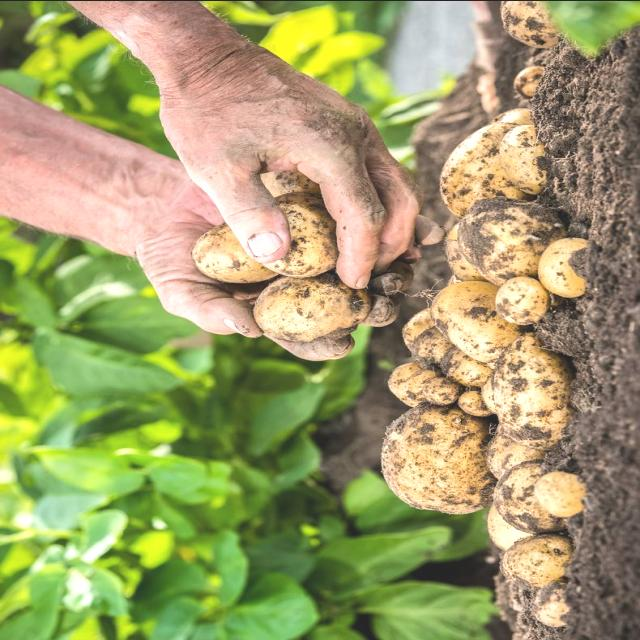potato: (380, 404, 494, 514), (253, 271, 359, 345)
